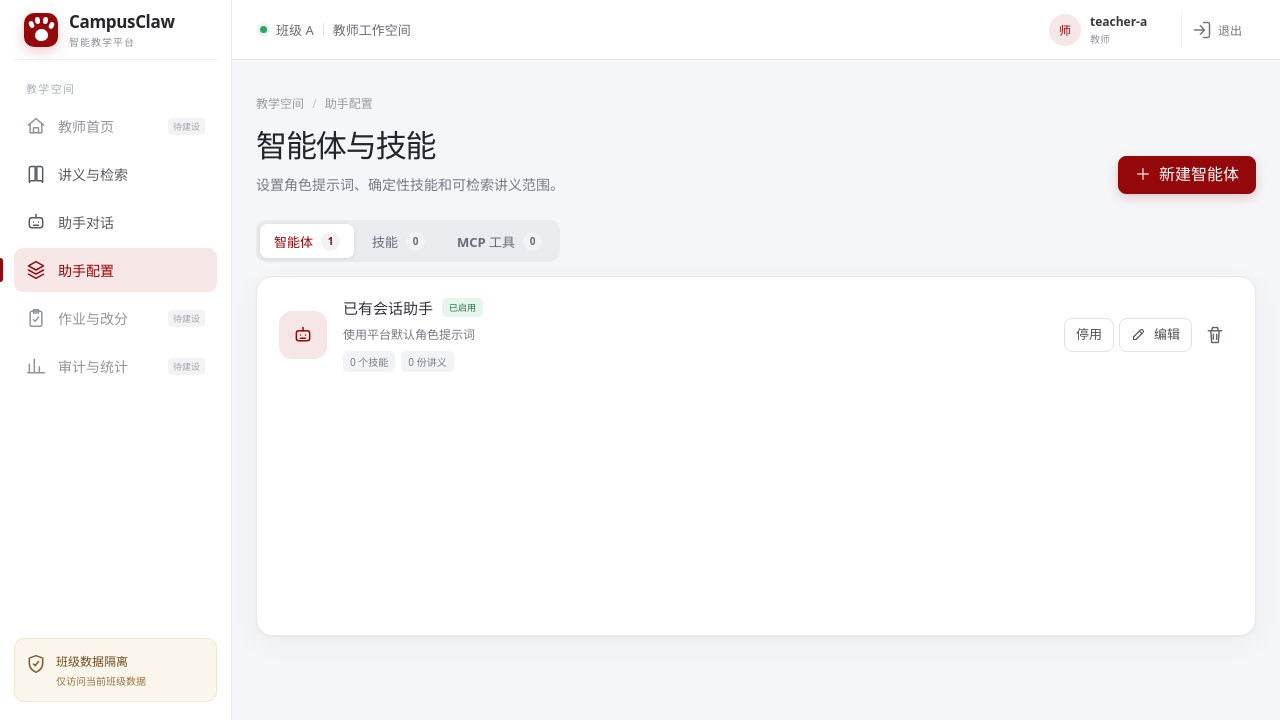
AgentConfigView › keeps the assistant delete dialog open when history causes a conflict
Click the button named "删除智能体 已有会话助手".
click(1215, 335)  # box [1197, 317, 1233, 353]
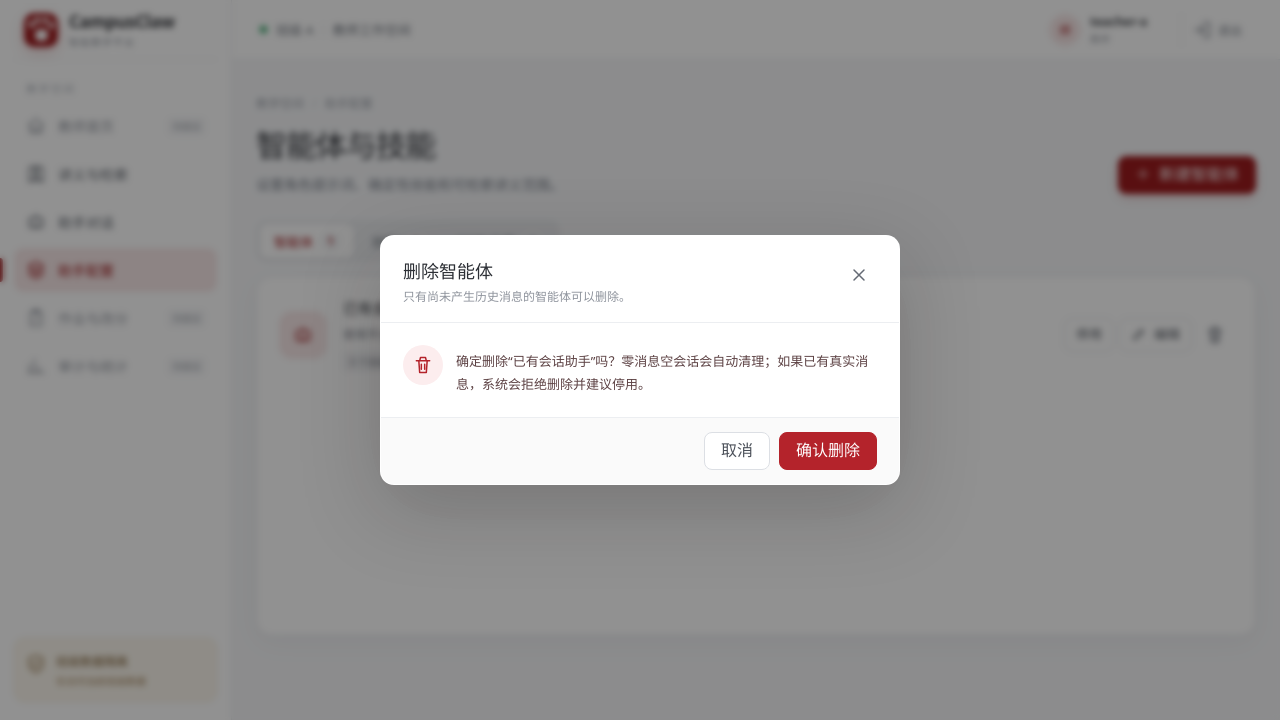
Click the button with class "button--danger".
click(828, 451)  # box [779, 432, 877, 470]
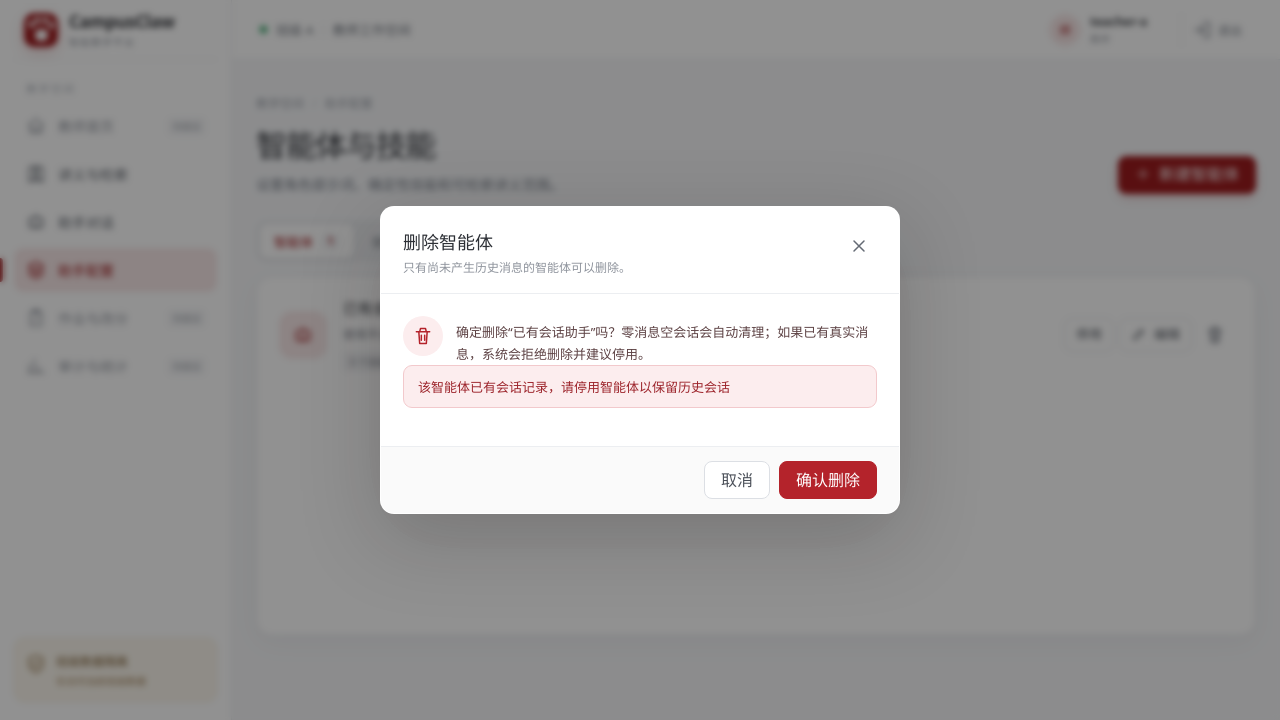
Now the dialog is shown, box [380, 206, 900, 514]
Now the text "请停用智能体以保留历史会话" is shown, box [418, 378, 730, 396]
